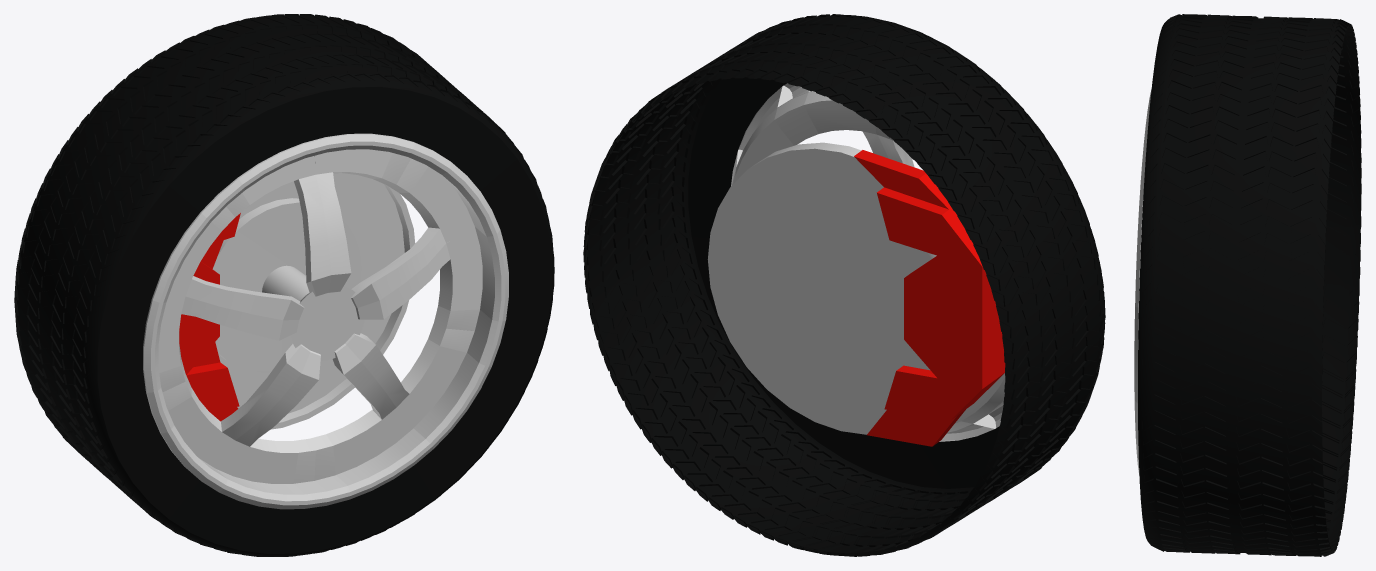
Rendered from Rim_R.fbx.
3 views of the same model, side by side, from view 1: azimuth 30°, elevation 25°; view 2: azimuth 150°, elevation 25°; view 3: azimuth 270°, elevation 25° (orthographic). The views are drawn at different scales.
Visible parts, largest first — view 1: Roda.002, Circle.002; view 2: Roda.002, Circle.002; view 3: Roda.002.
Part boxes in pixels (bbox=[...]): Roda.002: bbox=[14, 14, 554, 556]; Circle.002: bbox=[179, 173, 415, 429]; Roda.002: bbox=[583, 14, 1105, 556]; Circle.002: bbox=[707, 142, 1005, 446]; Roda.002: bbox=[1134, 14, 1361, 556].
Bounding box in the file's own units: 54.86 × 53.83 × 22.71.
